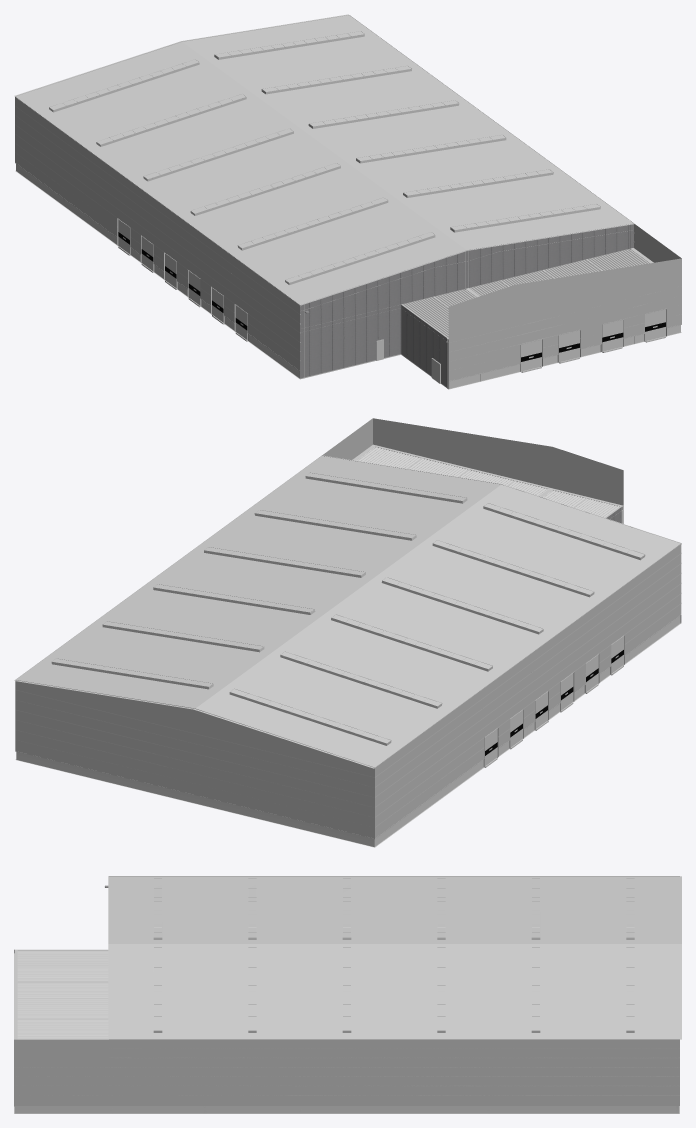
Rendered from Building.fbx.
3 renders of one model, top to bottom at view 1: azimuth 30°, elevation 25°; view 2: azimuth 150°, elevation 25°; view 3: azimuth 270°, elevation 25°, orthographic. The views are drawn at different scales.
Visible parts, largest first — view 1: CL_Ceiling_001, Bldg_WallPanel_001, Bldg_WallPalnel_002, CL_Tplight_Glass_001, CL_Toplight_Wall_001, CL_TopLight_Frame_001, Bldg_BentPlate_001, Bldg_WallConcrete_001, Bldg_SteelFrame_S_001, Shutter_009, Shutter_007, Shutter_008 (+1 smaller); view 2: CL_Ceiling_001, Bldg_WallPanel_001, CL_Tplight_Glass_001, CL_Toplight_Wall_001, Bldg_WallConcrete_001, Bldg_SteelFrame_S_001, CL_TopLight_Frame_001, Bldg_BentPlate_001, Bldg_SteelFrame_L_010; view 3: CL_Ceiling_001, Bldg_WallPanel_001, Bldg_BentPlate_001, CL_Tplight_Glass_001, Bldg_WallConcrete_001, Bldg_SteelFrame_S_001, CL_TopLight_Frame_001, Bldg_SteelFrame_L_010, Bldg_Floor_001.
Boxes of the visible parts, x1,y1,x2,y2 form: CL_Ceiling_001: (14,14,634,305); Bldg_WallPanel_001: (15,19,681,381); Bldg_WallPalnel_002: (300,224,633,387); CL_Tplight_Glass_001: (49,31,599,282); CL_Toplight_Wall_001: (49,34,600,284); CL_TopLight_Frame_001: (49,31,600,283); Bldg_BentPlate_001: (403,249,649,337); Bldg_WallConcrete_001: (15,164,680,388); Bldg_SteelFrame_S_001: (15,15,681,369); Shutter_009: (602,320,623,351); Shutter_007: (521,340,541,371); Shutter_008: (559,330,579,361); CL_Ceiling_001: (14,455,681,768); Bldg_WallPanel_001: (15,418,681,838); CL_Tplight_Glass_001: (52,473,644,743); CL_Toplight_Wall_001: (51,476,645,745); Bldg_WallConcrete_001: (15,615,680,847); Bldg_SteelFrame_S_001: (15,455,681,827); CL_TopLight_Frame_001: (52,472,645,743); Bldg_BentPlate_001: (356,447,619,517); Bldg_SteelFrame_L_010: (352,444,623,520); CL_Ceiling_001: (108,876,681,1039); Bldg_WallPanel_001: (14,876,679,1105); Bldg_BentPlate_001: (17,950,108,1039); CL_Tplight_Glass_001: (154,878,634,1030); Bldg_WallConcrete_001: (14,1106,679,1113); Bldg_SteelFrame_S_001: (14,953,679,1095); CL_TopLight_Frame_001: (153,878,634,1030); Bldg_SteelFrame_L_010: (14,949,108,1039); Bldg_Floor_001: (14,1106,679,1113).
Bounding box in the file's own units: 3766 × 980 × 6503.
